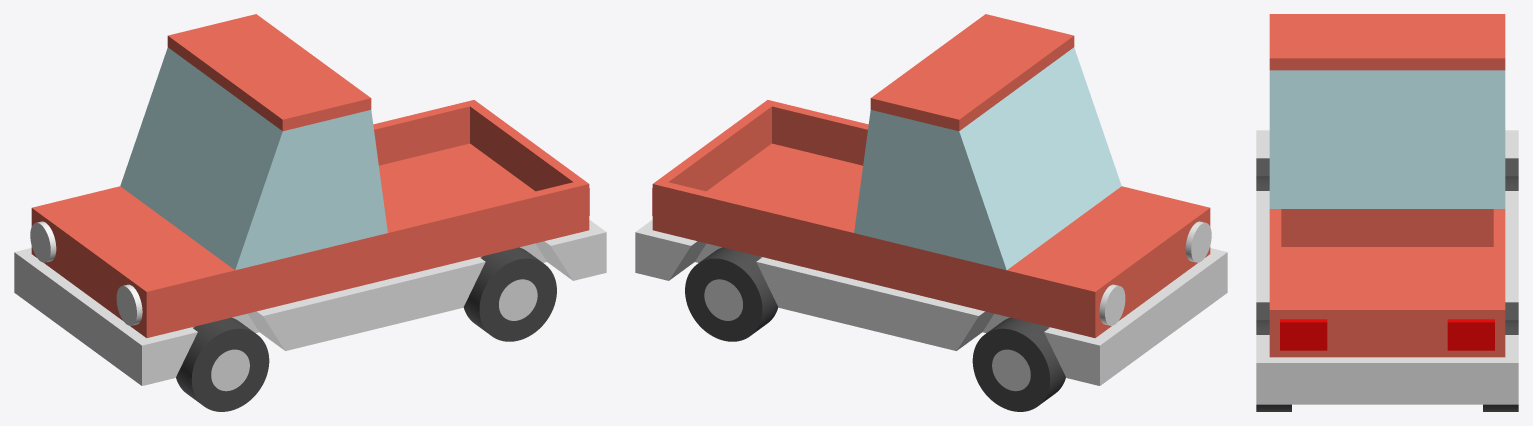
File: stylized-pickup-truck.glb
3 views of the same model, side by side, from view 1: azimuth 30°, elevation 25°; view 2: azimuth 150°, elevation 25°; view 3: azimuth 270°, elevation 25° (orthographic). The views are drawn at different scales.
Size of the model in its own units: 4.2 by 2.35 by 2.
